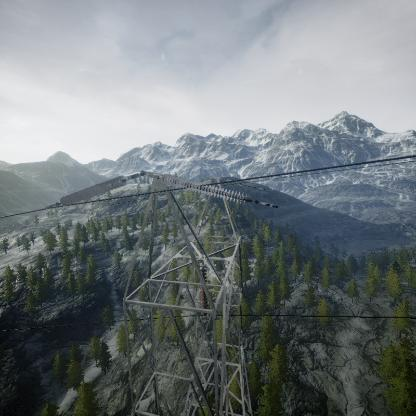insulator: (145, 166, 276, 210), (45, 171, 142, 210)
